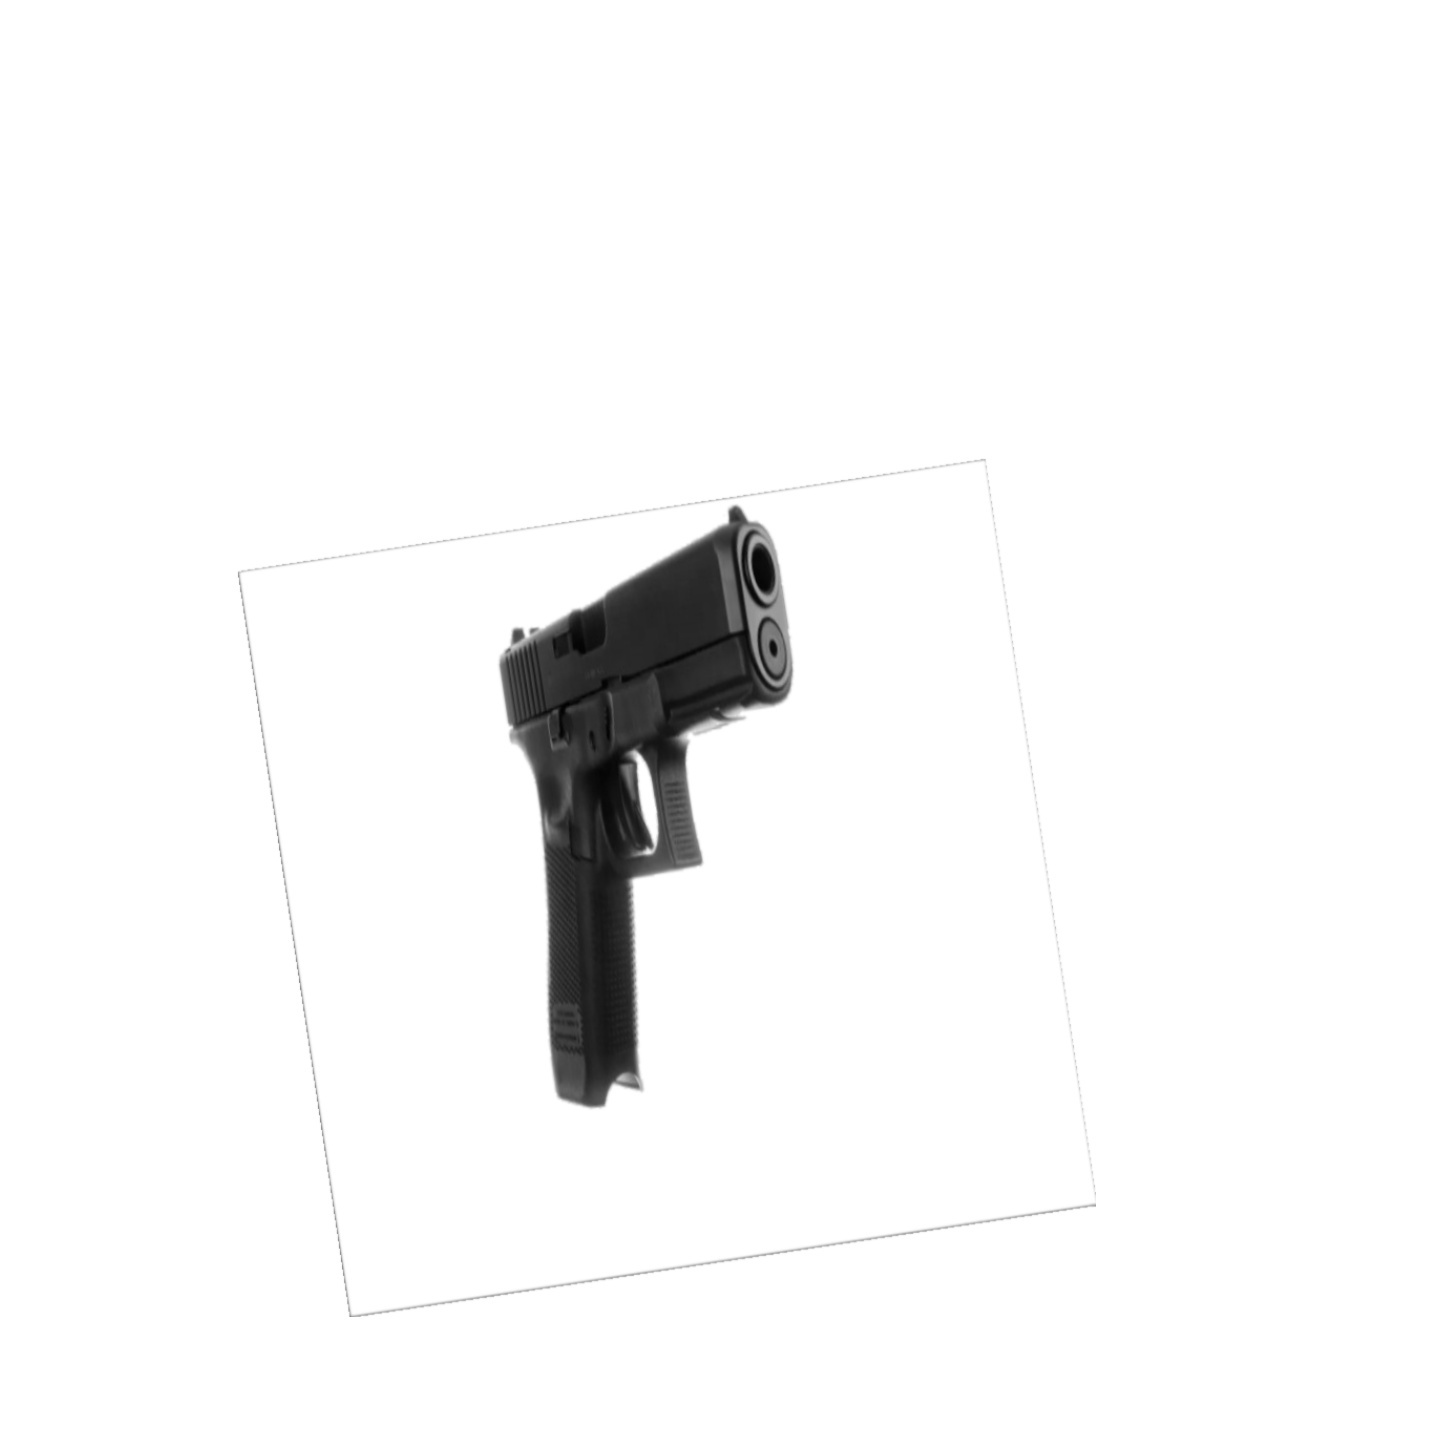gun: (496, 503, 791, 1107)
